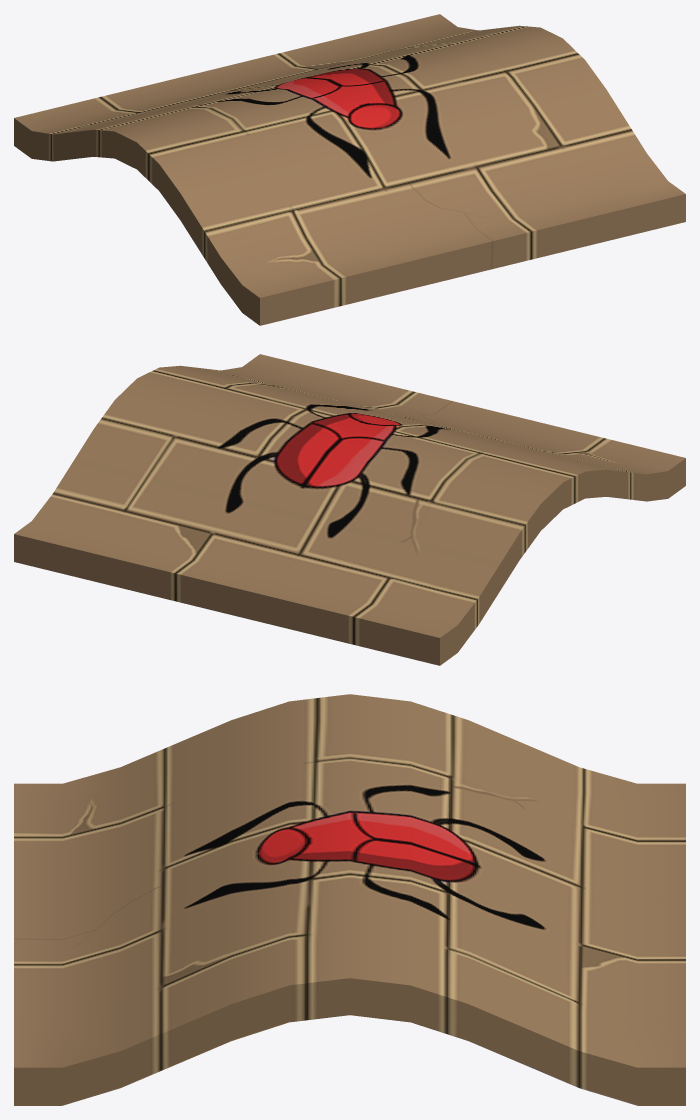
File: egypt_bigwave.gltf
3 renders of one model, top to bottom at view 1: azimuth 30°, elevation 25°; view 2: azimuth 150°, elevation 25°; view 3: azimuth 270°, elevation 25°, orthographic. The views are drawn at different scales.
Parts seen in each view (by area): view 1: egypt_bigwave_glb; view 2: egypt_bigwave_glb; view 3: egypt_bigwave_glb.
Boxes of the visible parts, left/top/right/bottom form: egypt_bigwave_glb: left=14, top=14, right=685, bottom=325; egypt_bigwave_glb: left=14, top=354, right=685, bottom=665; egypt_bigwave_glb: left=14, top=694, right=685, bottom=1105.
Size of what is drawn, in the model's own units: 4 by 0.8385 by 4.
1 material, 1 textured.
